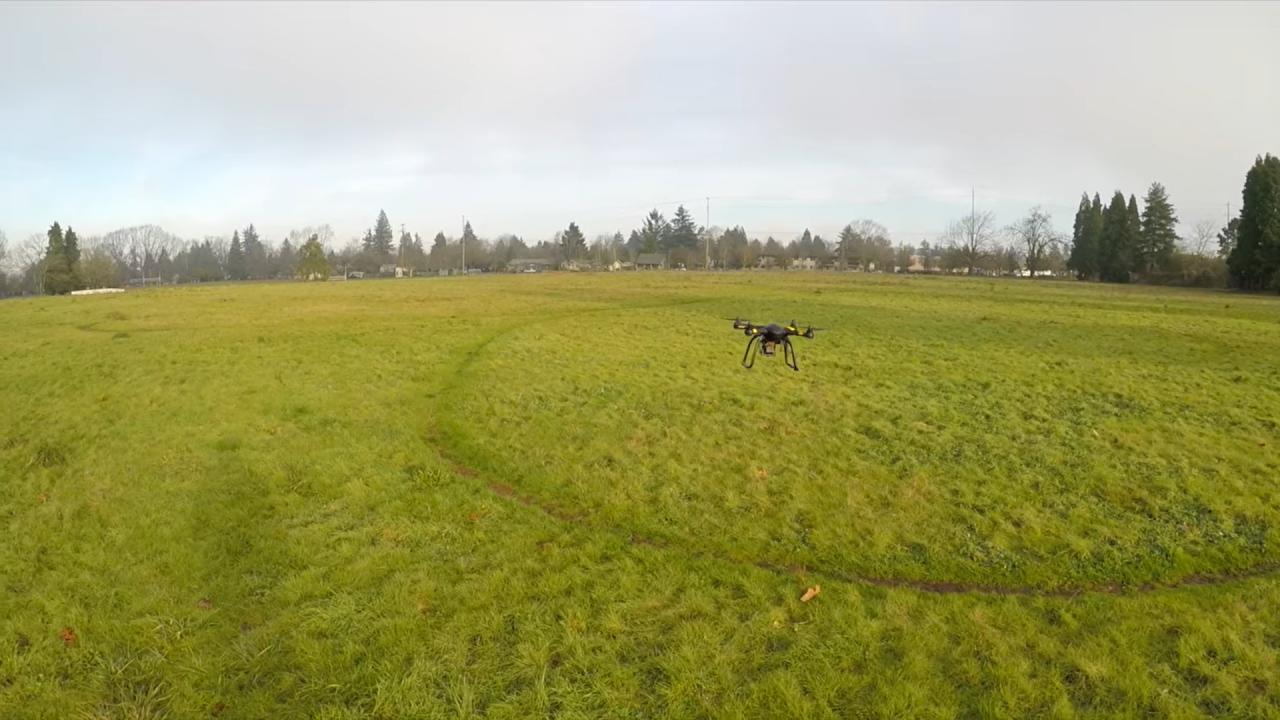Drone: (712, 308, 830, 381)
